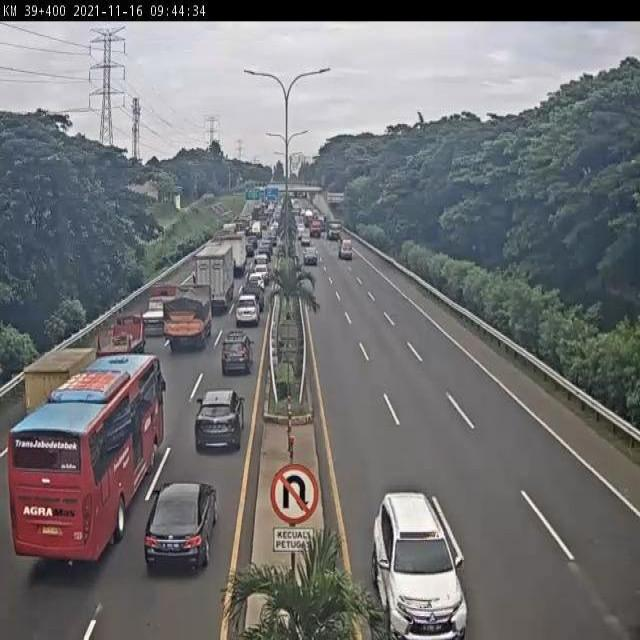big bus: (9, 360, 161, 563)
car: (373, 492, 470, 640), (145, 483, 217, 569), (193, 391, 244, 452), (219, 335, 250, 377), (232, 302, 257, 334), (241, 289, 264, 312), (247, 270, 266, 290)
small truck: (12, 345, 96, 423), (96, 315, 147, 369), (137, 286, 176, 338)
truck-l-: (191, 244, 234, 311)
truck-m-: (162, 289, 210, 348), (221, 237, 249, 279)
